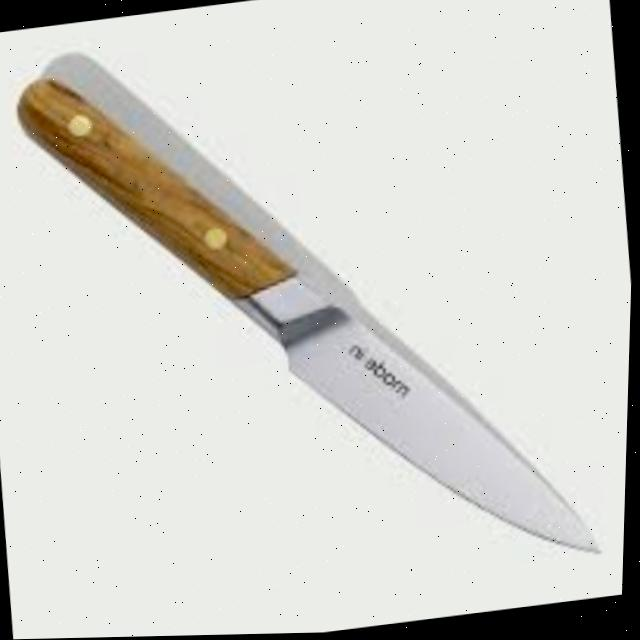Knife: (0, 0, 621, 623)
